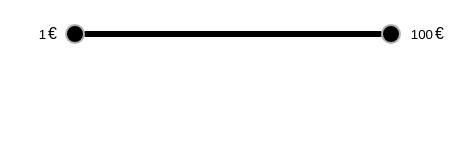
Test case: Given a FlexibleRange component min input › When initial value is 1 and max is 100 › And the user introduces 500 in the min input › Then should put 99 as the input value
This screenshot has width=461, height=160.
Replace the text in the field with test id "input-min" with "500" at (31, 34), box [16,16,46,52]
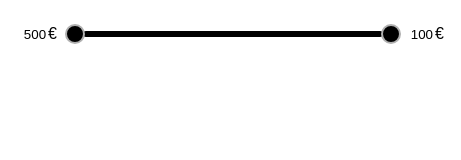
Leave the field with test id "input-min", box [16,16,46,52]
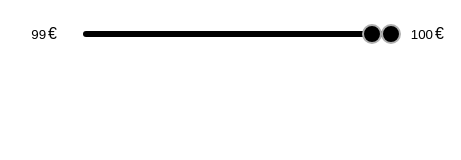
Now the field with test id "input-min" holds "99", box [16,16,46,52]
